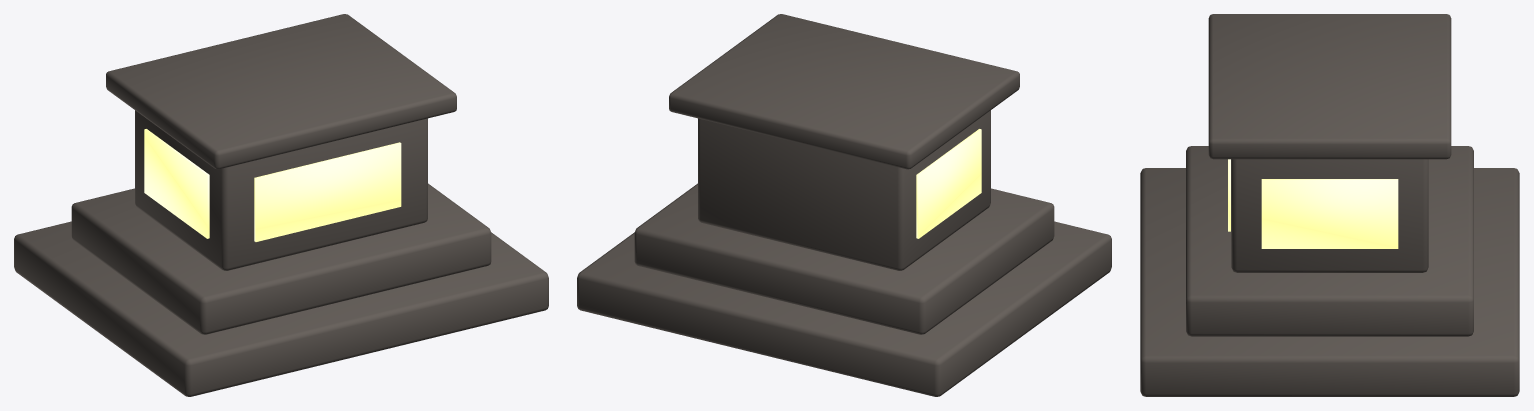
The model's file is altar.glb.
3 renders of one model, left to right at view 1: azimuth 30°, elevation 25°; view 2: azimuth 150°, elevation 25°; view 3: azimuth 270°, elevation 25°, orthographic. The views are drawn at different scales.
Visible parts, largest first — view 1: StepLow, Top, StepHigh, Block, InlayFront, Inlay-1; view 2: StepLow, Top, StepHigh, Block, Inlay-1; view 3: StepLow, Top, StepHigh, Block, Inlay1.
Boxes of the visible parts, bbox=[...] form: StepLow: bbox=[14, 221, 548, 396]; Top: bbox=[106, 14, 456, 169]; StepHigh: bbox=[71, 183, 491, 334]; Block: bbox=[135, 110, 427, 270]; InlayFront: bbox=[254, 142, 401, 241]; Inlay-1: bbox=[144, 129, 209, 238]; StepLow: bbox=[577, 221, 1111, 396]; Top: bbox=[669, 14, 1019, 169]; StepHigh: bbox=[634, 183, 1054, 334]; Block: bbox=[698, 110, 990, 270]; Inlay-1: bbox=[916, 129, 981, 238]; StepLow: bbox=[1140, 168, 1519, 396]; Top: bbox=[1208, 14, 1451, 159]; StepHigh: bbox=[1186, 146, 1473, 336]; Block: bbox=[1231, 159, 1428, 272]; Inlay1: bbox=[1261, 179, 1398, 248].
Bounding box in the file's own units: 1.2 × 0.66 × 1.
